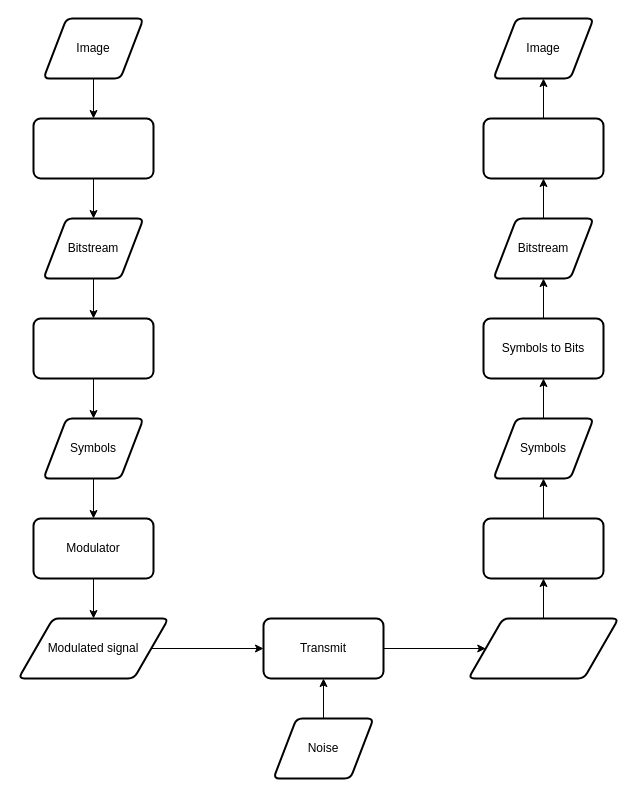
Some shapes in this 636 by 796 pixel diagram are drawn without their labels. Here are the shapes that lost their labels. From the top down, the centre of each, then its label:
the point at 93,148: Convert to bitstream
the point at 543,148: Convert to image
the point at 93,348: Bits to Symbols
the point at 543,548: Demodulator
the point at 543,648: Received signal
